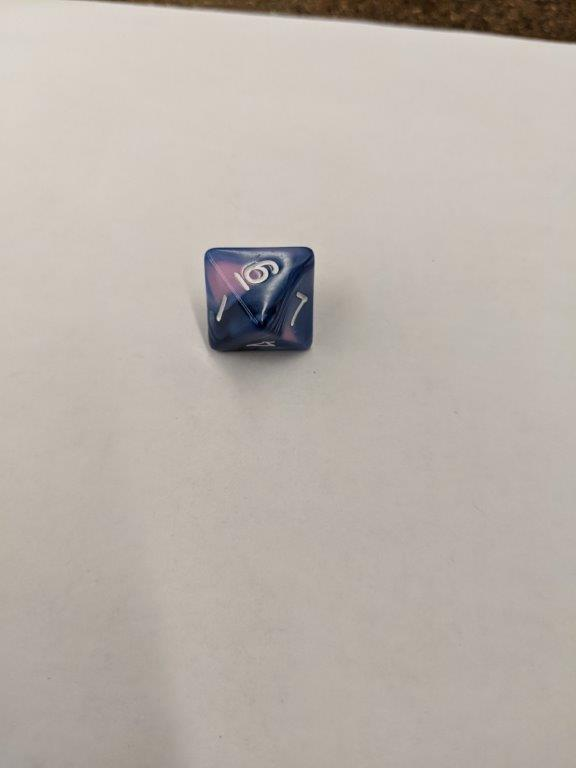d8-6: (199, 242, 318, 357)
